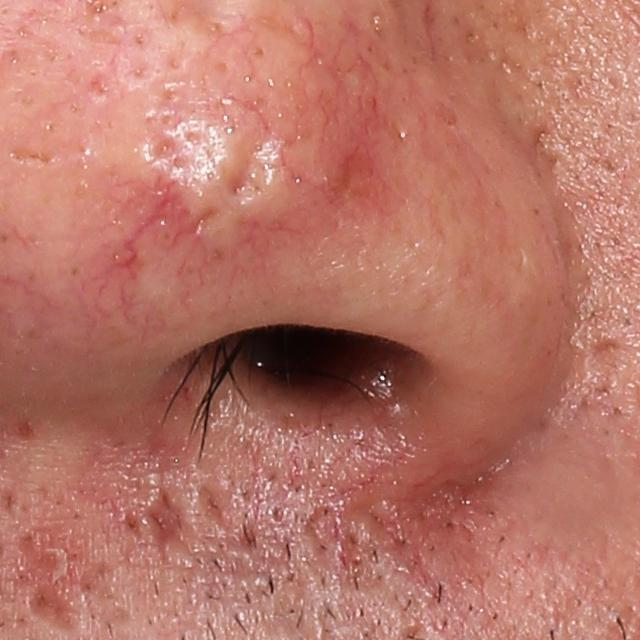atrophic_scar: (220, 137, 280, 201), (147, 487, 186, 555), (23, 587, 77, 632), (199, 478, 233, 525), (587, 338, 626, 368)
hypertrophic_scar: (4, 411, 107, 525)
